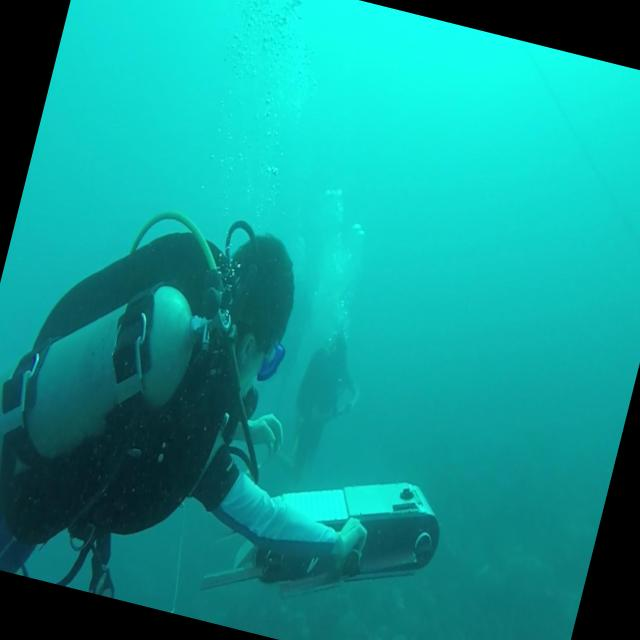human: (0, 165, 436, 640), (276, 322, 373, 489)
